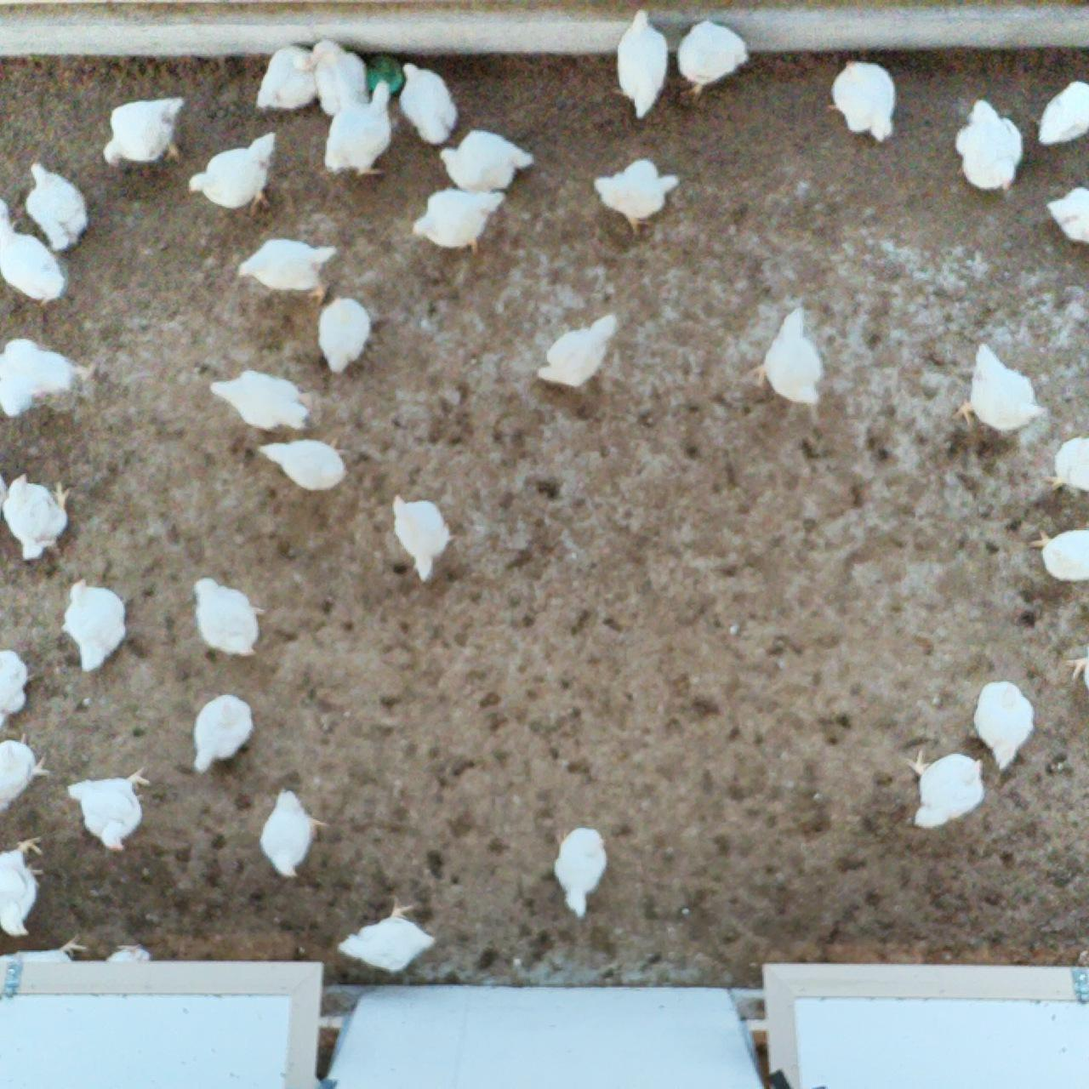chicken: (947, 337, 1046, 439), (746, 303, 834, 413), (184, 128, 282, 223), (604, 5, 682, 123), (0, 334, 100, 425), (952, 91, 1033, 200), (899, 741, 992, 835), (64, 763, 157, 856), (333, 893, 437, 973), (529, 310, 627, 393), (232, 234, 340, 309), (408, 182, 511, 260), (589, 155, 685, 238), (436, 122, 539, 199), (318, 80, 396, 181), (98, 92, 192, 175), (208, 366, 317, 437), (818, 55, 901, 148), (188, 572, 271, 665), (57, 573, 132, 675), (964, 677, 1041, 776), (1, 469, 78, 567), (258, 781, 329, 886), (385, 488, 459, 585), (19, 157, 91, 255), (547, 816, 612, 922), (675, 16, 754, 101), (0, 214, 69, 311), (252, 432, 352, 497), (188, 685, 258, 775), (398, 56, 463, 150), (0, 832, 53, 940), (307, 39, 372, 122), (312, 293, 376, 377), (250, 42, 318, 119), (0, 731, 54, 819), (1029, 74, 1089, 151), (1024, 517, 1089, 587), (1038, 429, 1089, 500), (0, 647, 41, 732), (1040, 183, 1089, 249)
